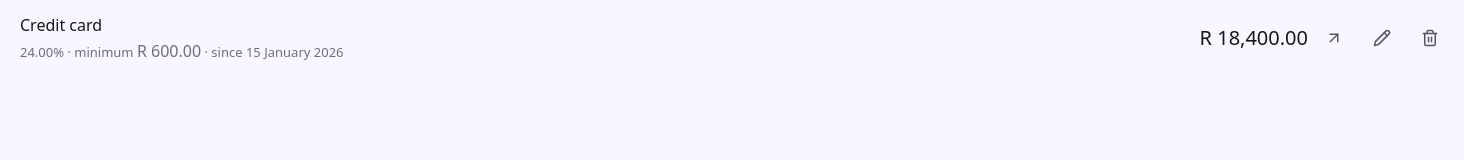
Test: DebtRow › lets the user back out of removing
What coordinates should you click on to do the following:
click the button named "Remove Credit card"
I would click on:
 (1430, 38)
Its box is [1408,16,1452,60].
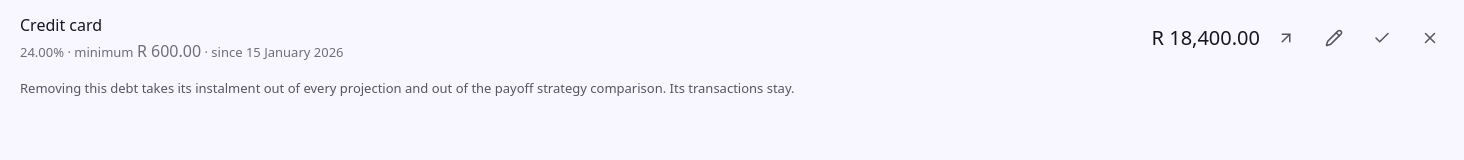
What coordinates should you click on to do the following:
click the button named "Cancel removing"
I would click on:
 (1430, 38)
Its box is [1408,16,1452,60].
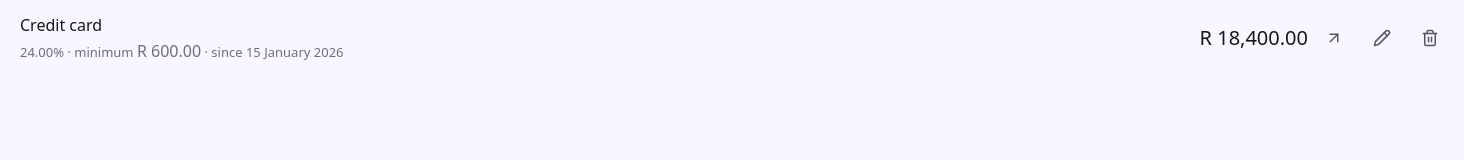
Now the button named "Remove Credit card" is shown, box [1408,16,1452,60]
